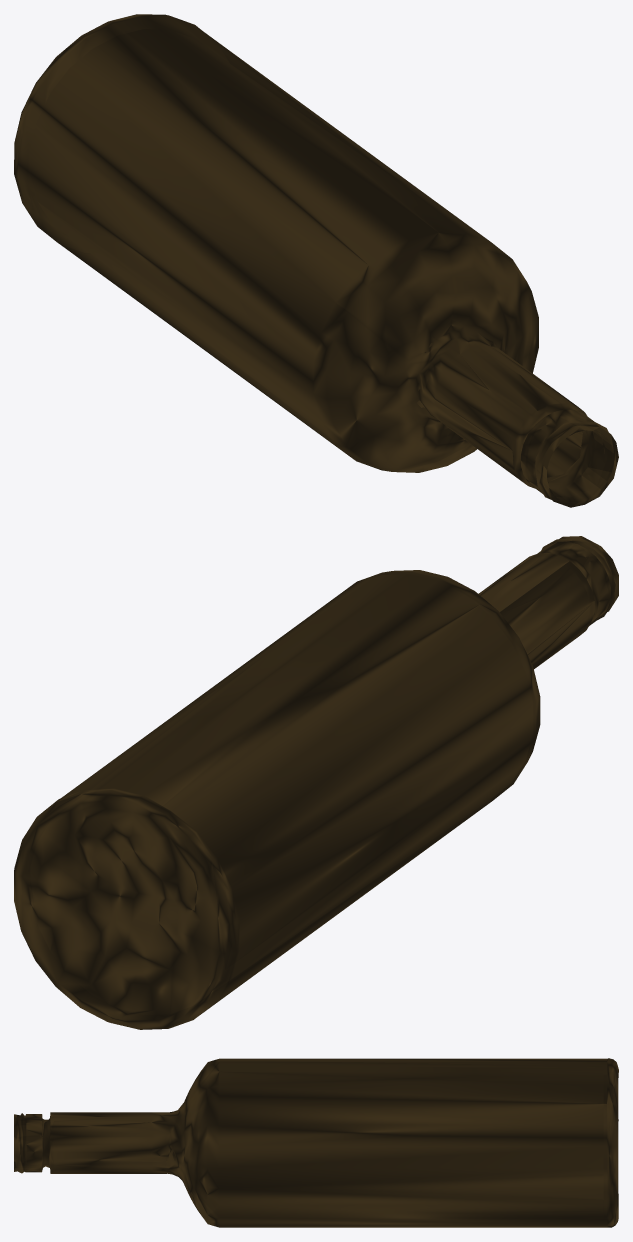
File: model_align.obj
3 views of the same model, one above another, from view 1: azimuth 30°, elevation 25°; view 2: azimuth 150°, elevation 25°; view 3: azimuth 270°, elevation 25° (orthographic). The views are drawn at different scales.
Size of the model in its own units: 0.0776 by 0.0775 by 0.2792.
